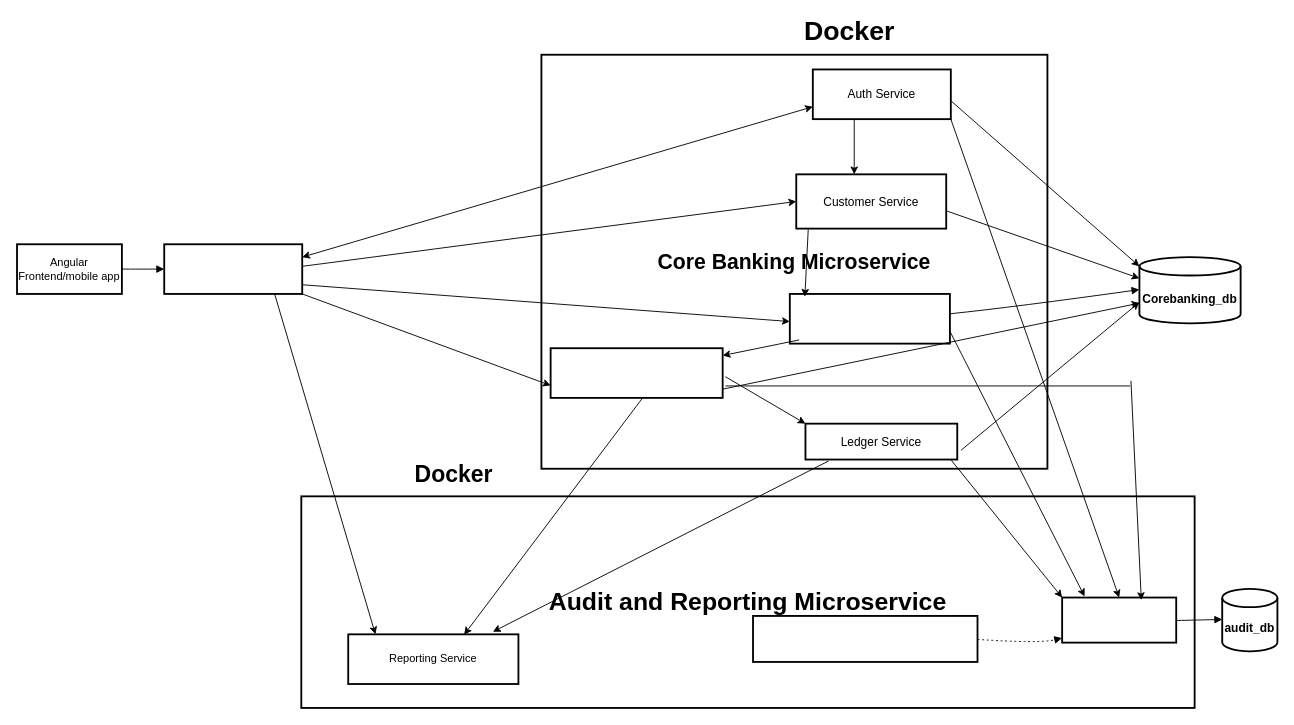
The diagram is 1294 pixels wide and 725 high, and some of its shapes have lost their labels. Here are the shapes that lost their labels. From the top down, the centre of each, then its label:
At (233,268): "API Gateway".
At (869,318): "Account Service".
At (636,372): "Transaction Service".
At (865,638): "Analytics Service - Future".
At (1119,619): "Audit Service".
